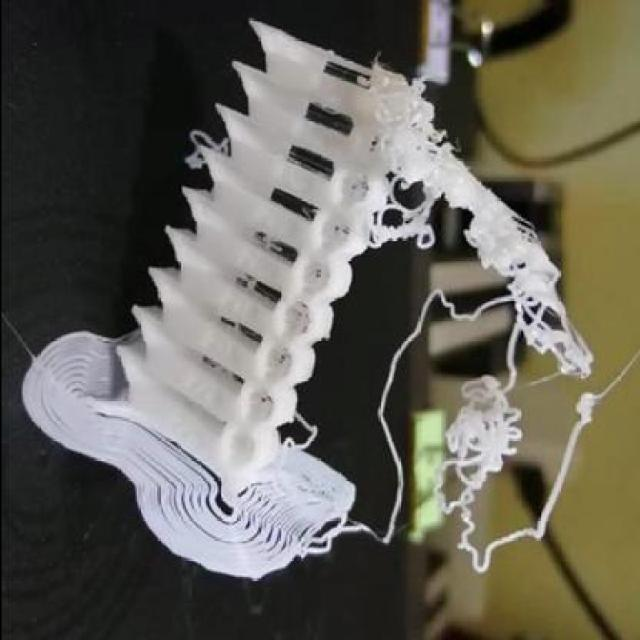Spaghetti: (366, 76, 597, 570), (296, 506, 366, 562), (275, 404, 322, 464), (180, 129, 234, 173), (250, 232, 284, 254), (235, 271, 258, 292)
